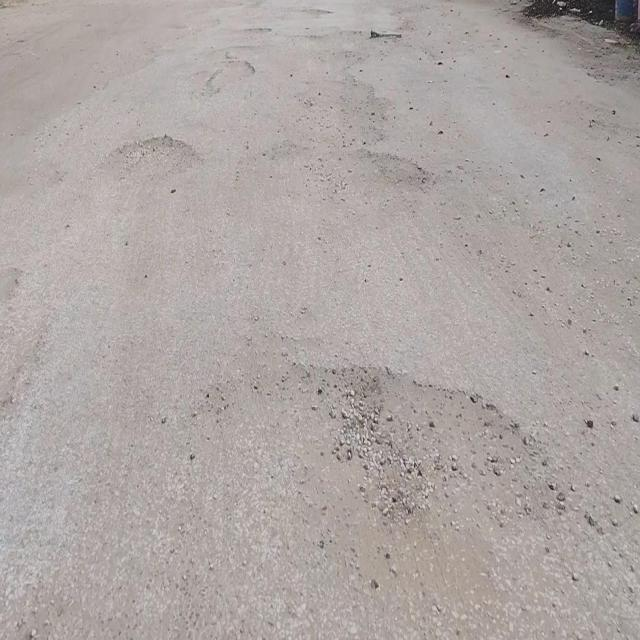Potholes: (111, 129, 200, 185), (205, 54, 257, 98)
